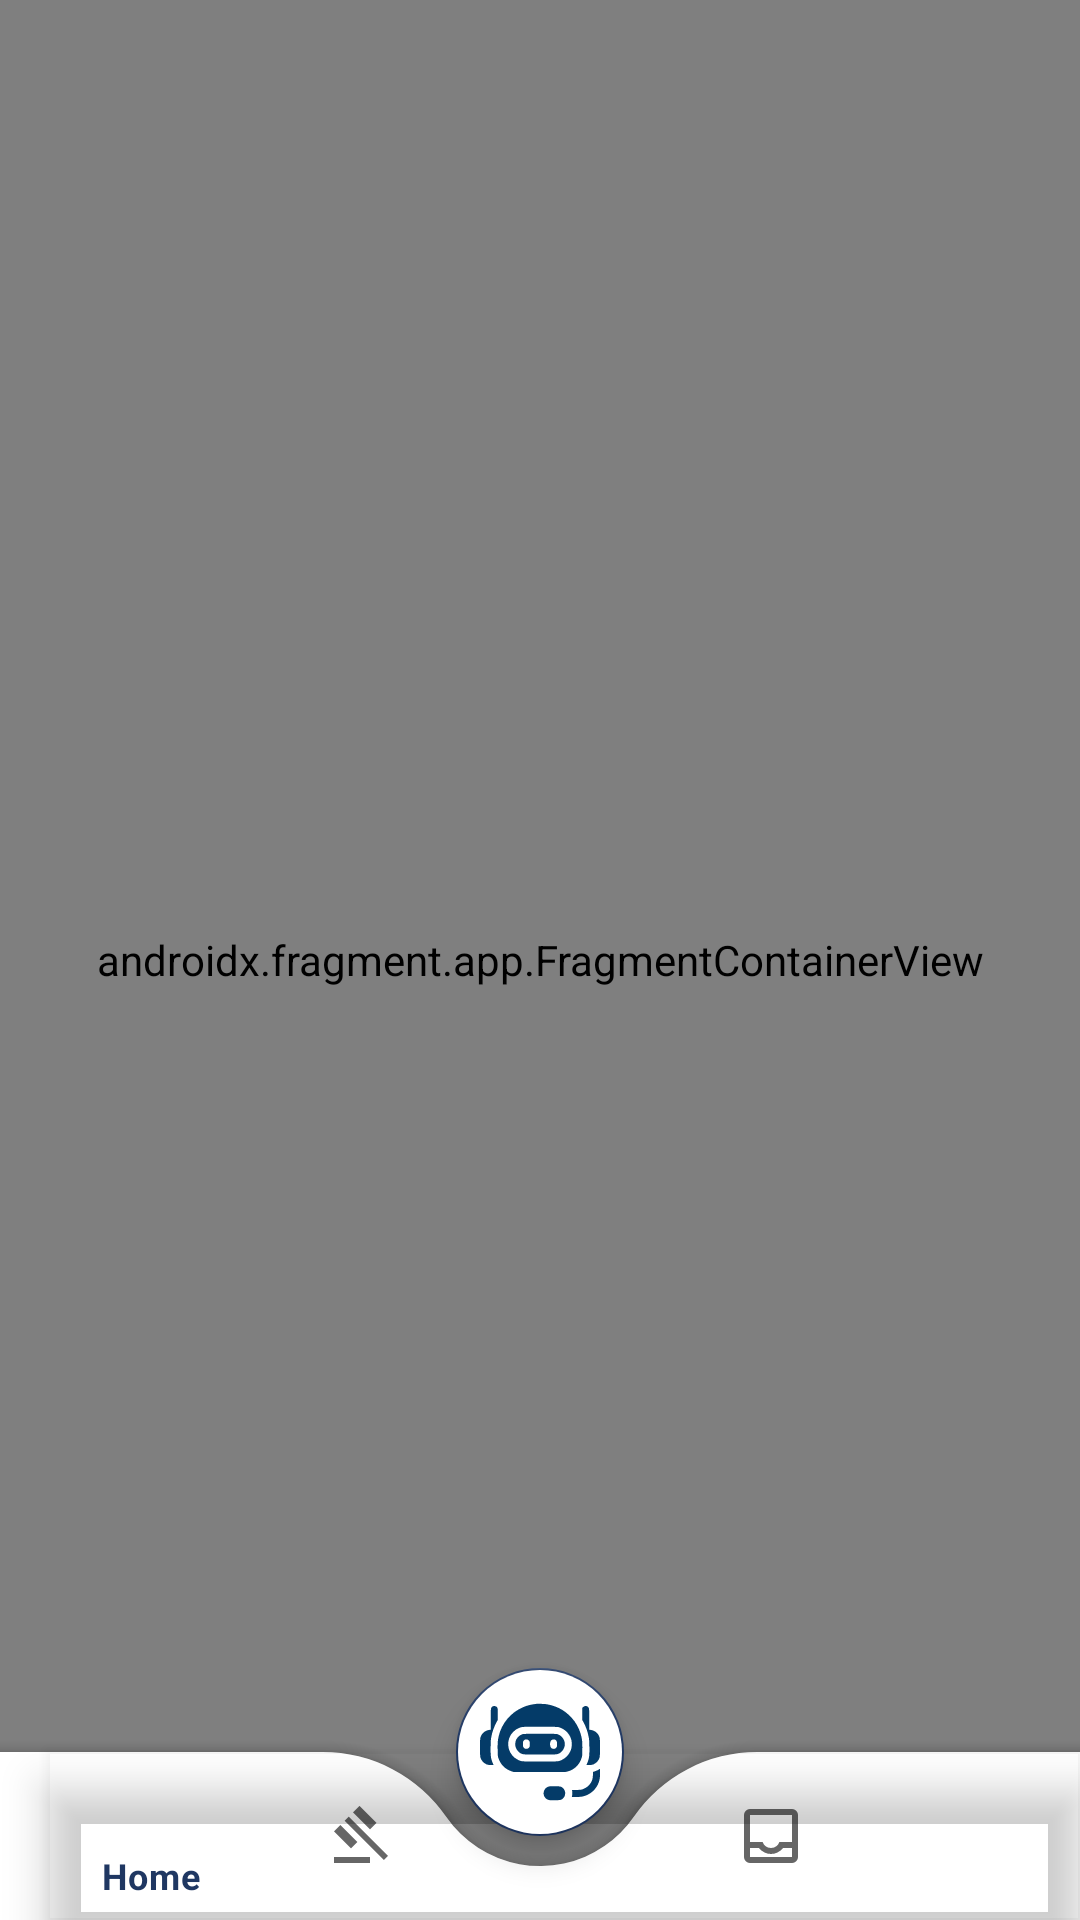

Screen size 1080w x 1920h. Icon name, then its box in pixels as [left=x1, top=y1, right=x2, bottom=y2]:
chatbot: [left=456, top=1668, right=624, bottom=1836]
